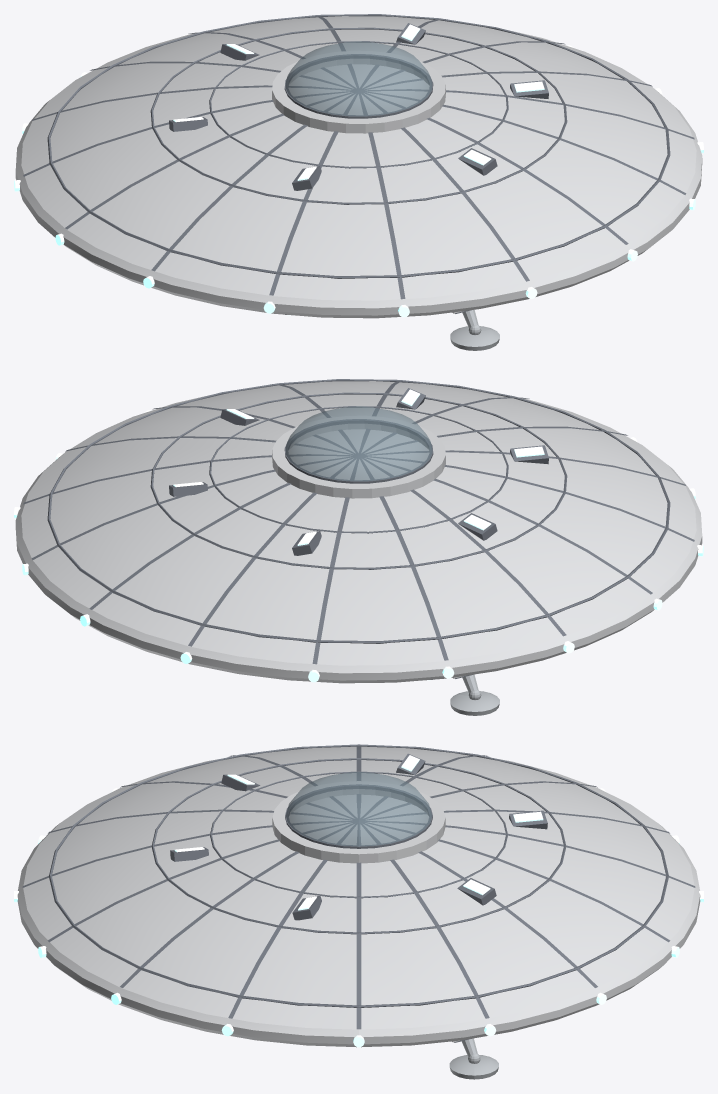
File: ufo-crash-site-and-recovery-facility-saucer-craft-inta-3b0179e0__17323.glb
3 renders of one model, top to bottom at view 1: azimuth 30°, elevation 25°; view 2: azimuth 150°, elevation 25°; view 3: azimuth 270°, elevation 25°, orthographic.
Parts seen in each view (by area): view 1: saucer-craft-intact, gear-fore; view 2: saucer-craft-intact, gear-port; view 3: saucer-craft-intact, gear-stbd.
Part boxes in pixels (x1,y1,x2,y2): saucer-craft-intact: (14, 14, 703, 318); gear-fore: (450, 309, 499, 350); saucer-craft-intact: (14, 379, 703, 683); gear-port: (450, 674, 499, 715); saucer-craft-intact: (14, 744, 703, 1047); gear-stbd: (449, 1038, 498, 1079).
Size of the model in its own units: 12.12 by 3.88 by 12.12.
